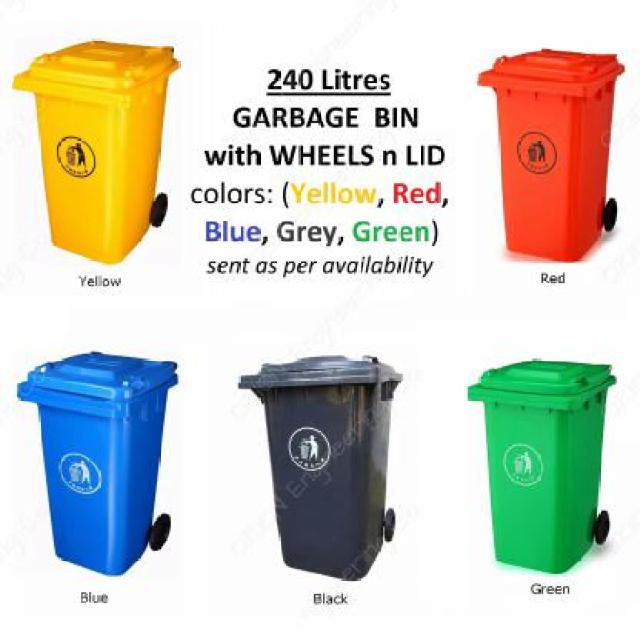garbage container: (8, 343, 201, 585), (2, 28, 196, 268), (230, 343, 416, 592), (457, 345, 637, 581), (472, 42, 637, 269)
